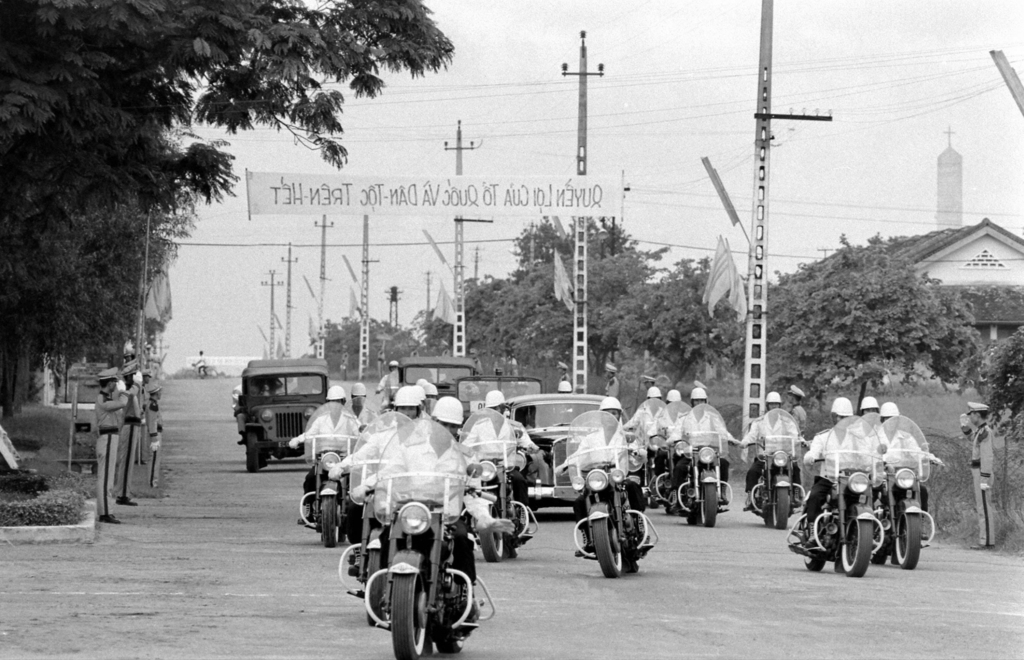Car: (503, 386, 633, 503)
